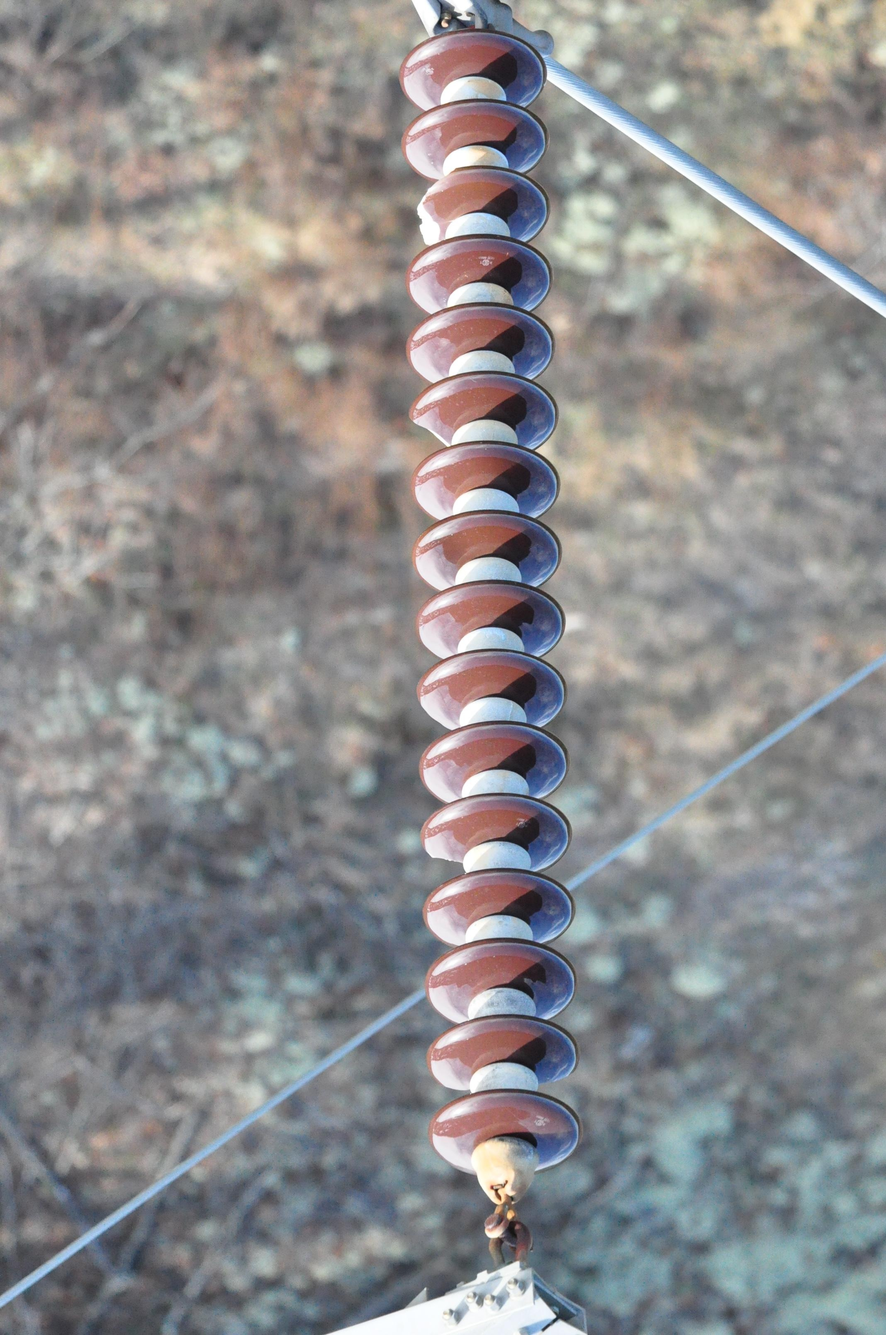damaged: (421, 841, 531, 880), (415, 165, 464, 247), (437, 1068, 574, 1093), (406, 411, 464, 455)
insulator: (392, 32, 582, 1183)
